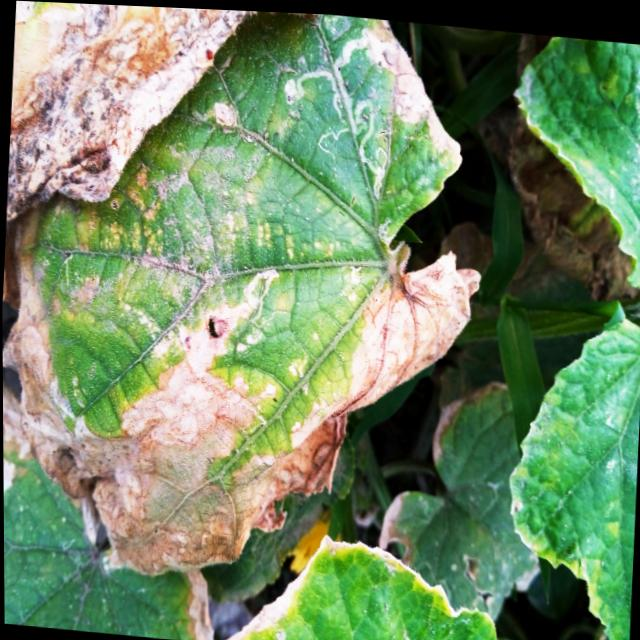Gummy-Stem-Blight: (3, 1, 481, 576)
